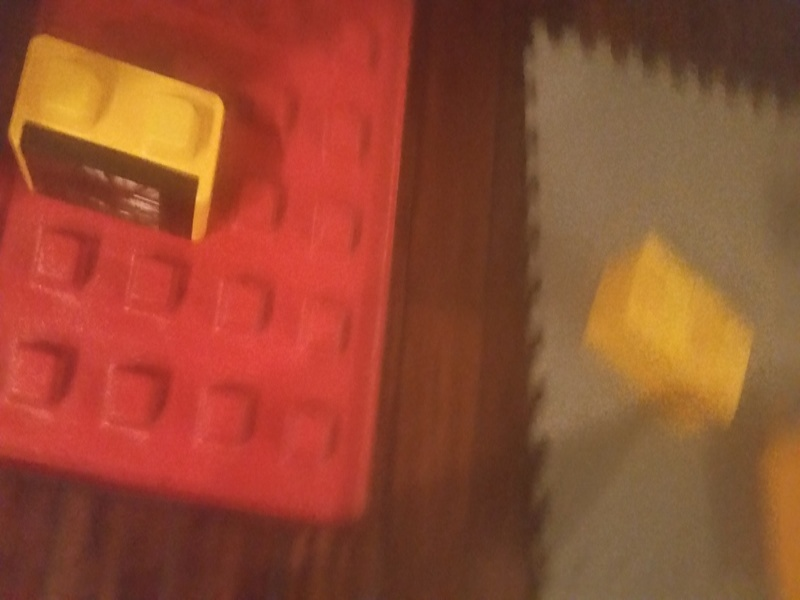Skystone: (3, 27, 237, 257)
Stone: (584, 243, 755, 459)
